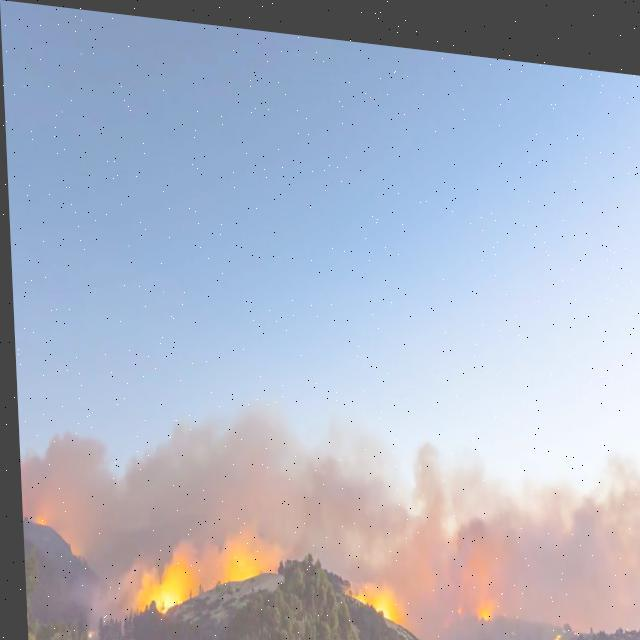Fire: (220, 537, 272, 580), (346, 576, 394, 614), (147, 580, 180, 613), (472, 596, 487, 612), (29, 512, 41, 527), (548, 618, 558, 630)
